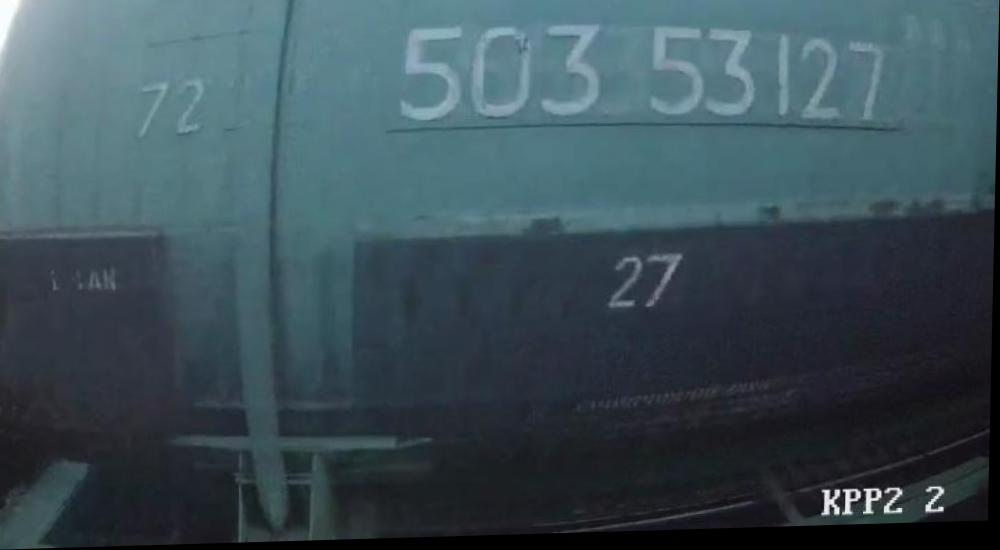Wagon-number: (388, 9, 892, 144)
